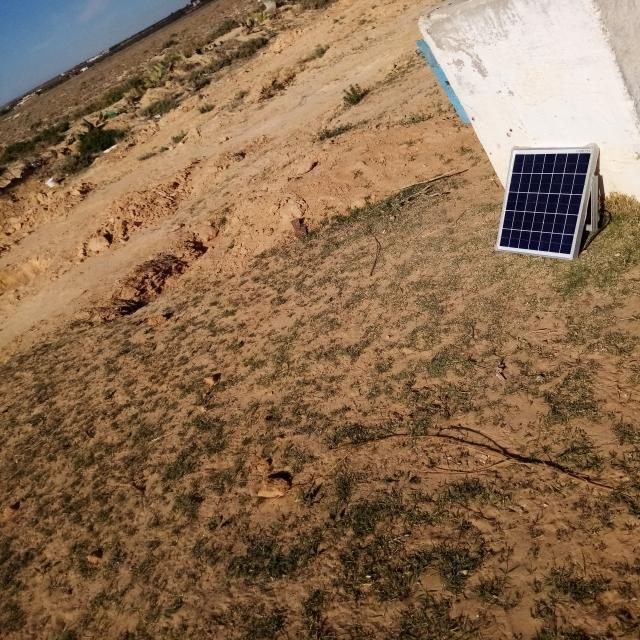Normal Solar Panel: (496, 148, 594, 259)
